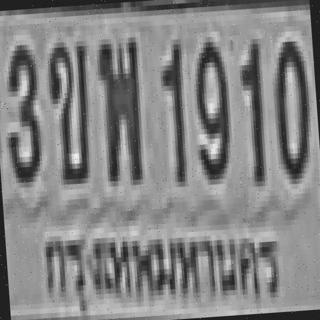A02: (44, 36, 93, 180)
A30: (94, 32, 144, 182)
N00: (270, 36, 311, 174)
N01: (237, 36, 267, 180), (158, 36, 187, 180)
N03: (0, 39, 40, 178)
N09: (190, 36, 229, 175)
P04: (29, 202, 293, 320)
